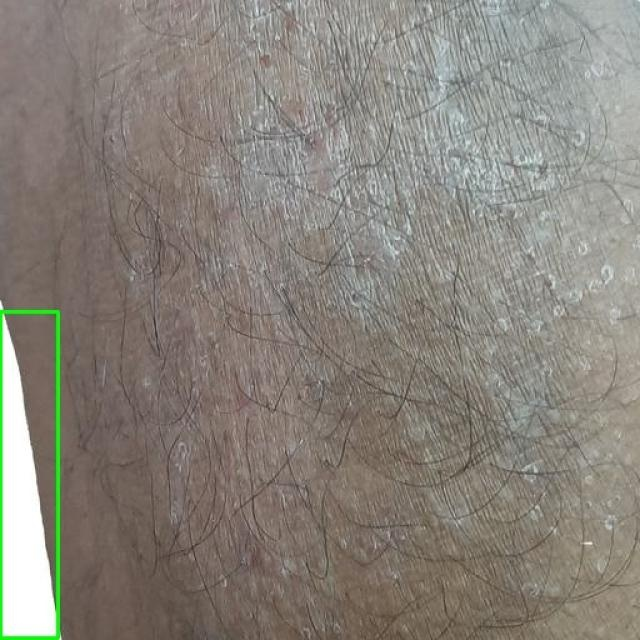Contact Dermatitis: (0, 311, 59, 639)
